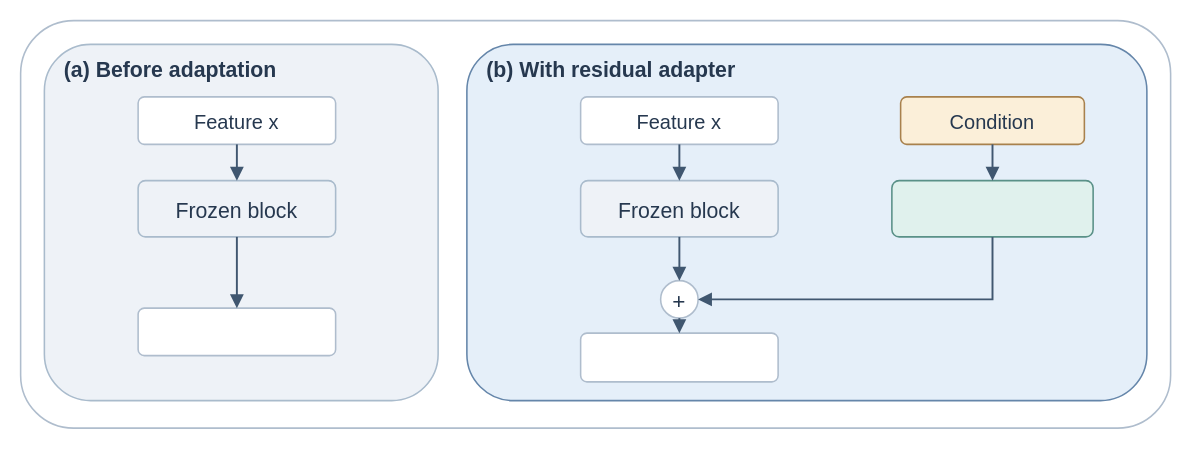
Image size: 1191x449. Some labels were removed from this diagram. The shapes that lost their labels are listed below. From the top down, each one's centre as x and y in pixels, then its label:
At [991,208]: "Trainable adapter".
At [236,331]: "Output y".
At [678,357]: "Adapted output".
